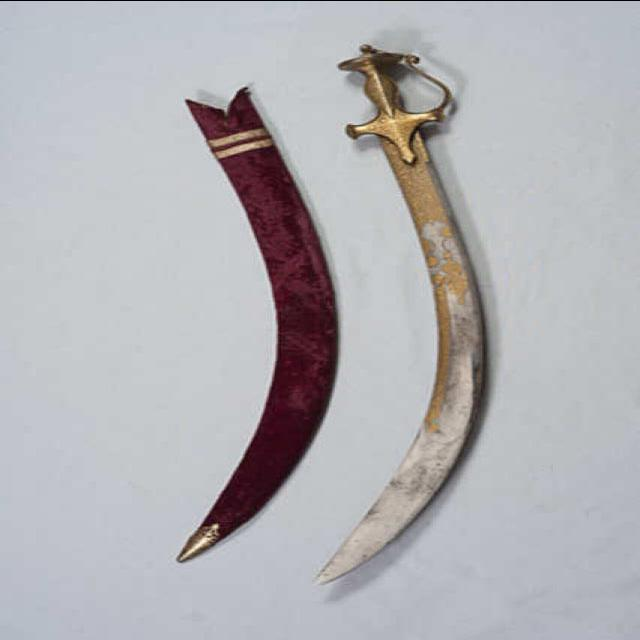cutlass: (291, 27, 519, 605)
scabbard: (159, 84, 353, 574)
